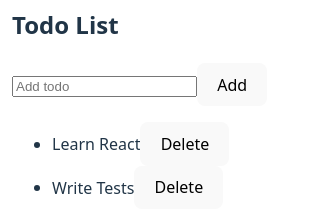
TodoList Component Tests › deletes a todo
The width and height of the screenshot is (332, 211).
Click the button with test id "delete-1" at point(185, 144), box [140, 122, 230, 166]
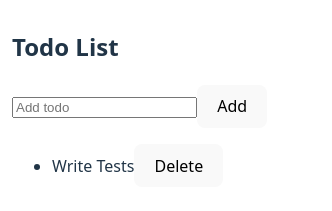
Expected: the list item "Learn React" is gone
